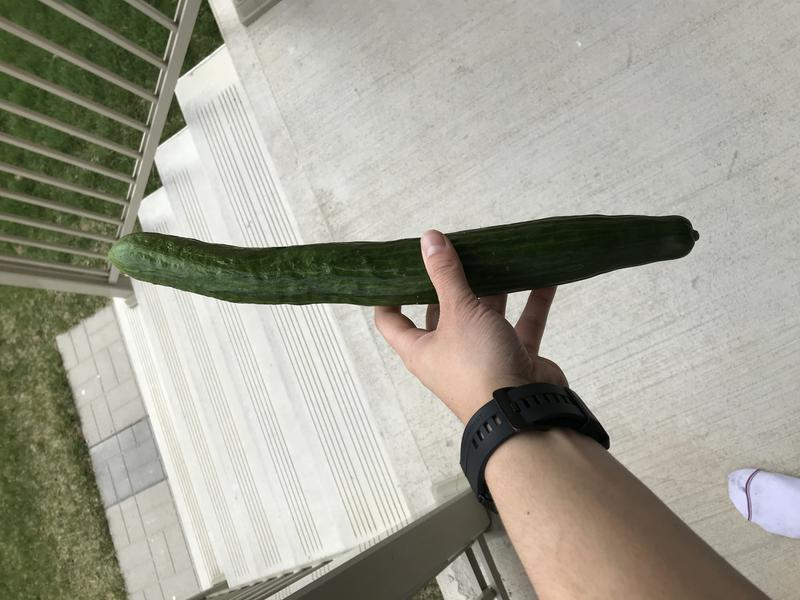cucumber: (105, 207, 713, 319)
